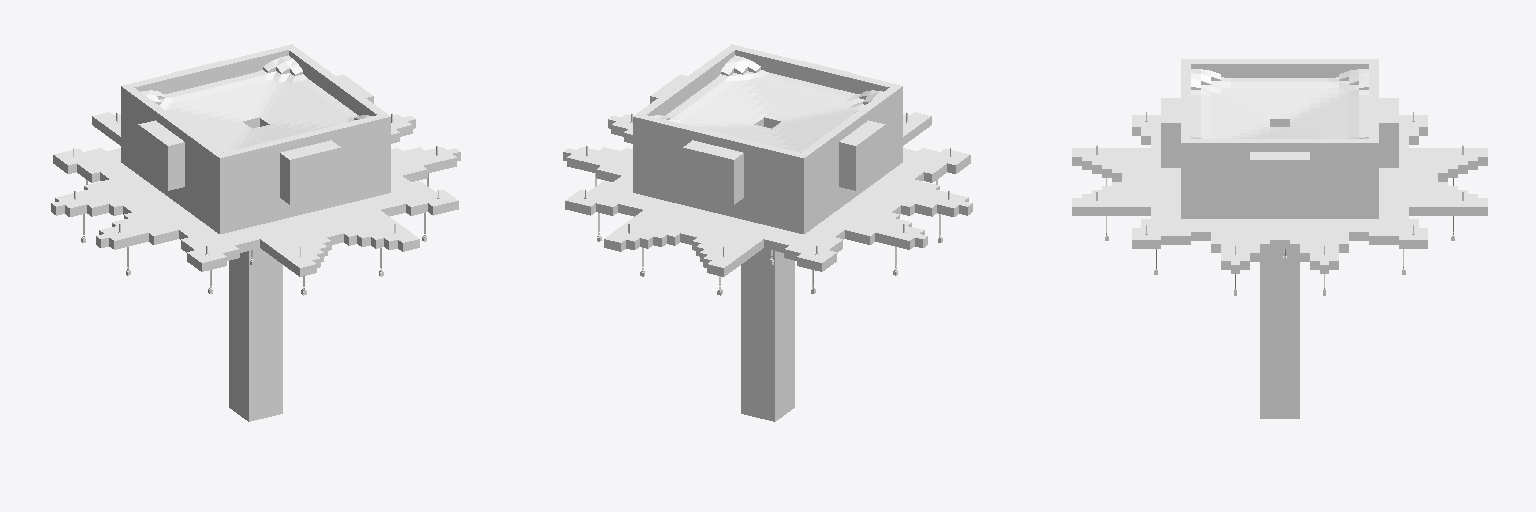
File: snowflake_24_255.obj
3 views of the same model, side by side, from view 1: azimuth 30°, elevation 25°; view 2: azimuth 150°, elevation 25°; view 3: azimuth 270°, elevation 25° (orthographic).
Parts seen in each view (by area): view 1: Etho's_LP_Ep550__-245_96_92_to_-201_225_140; view 2: Etho's_LP_Ep550__-245_96_92_to_-201_225_140; view 3: Etho's_LP_Ep550__-245_96_92_to_-201_225_140.
Part boxes in pixels (bbox=[...]): Etho's_LP_Ep550__-245_96_92_to_-201_225_140: bbox=[51, 44, 460, 421]; Etho's_LP_Ep550__-245_96_92_to_-201_225_140: bbox=[563, 44, 972, 421]; Etho's_LP_Ep550__-245_96_92_to_-201_225_140: bbox=[1072, 59, 1487, 418].
Size of the model in its own units: 42 by 34.5 by 42.